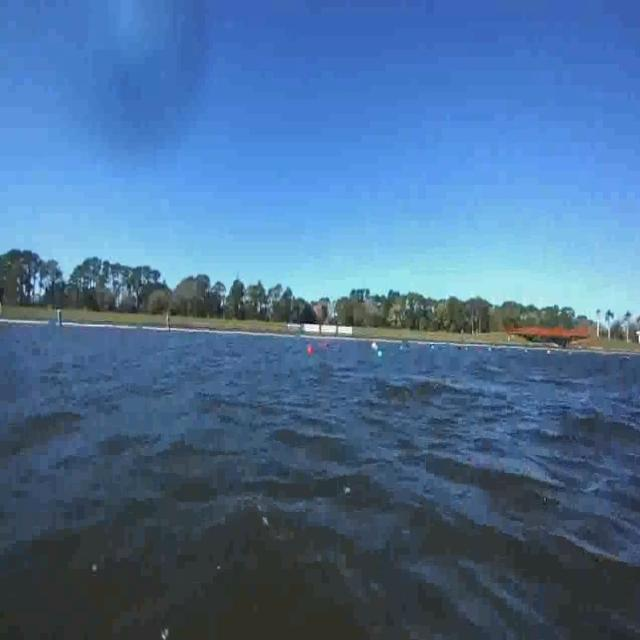red-buoy: (306, 344, 312, 357)
